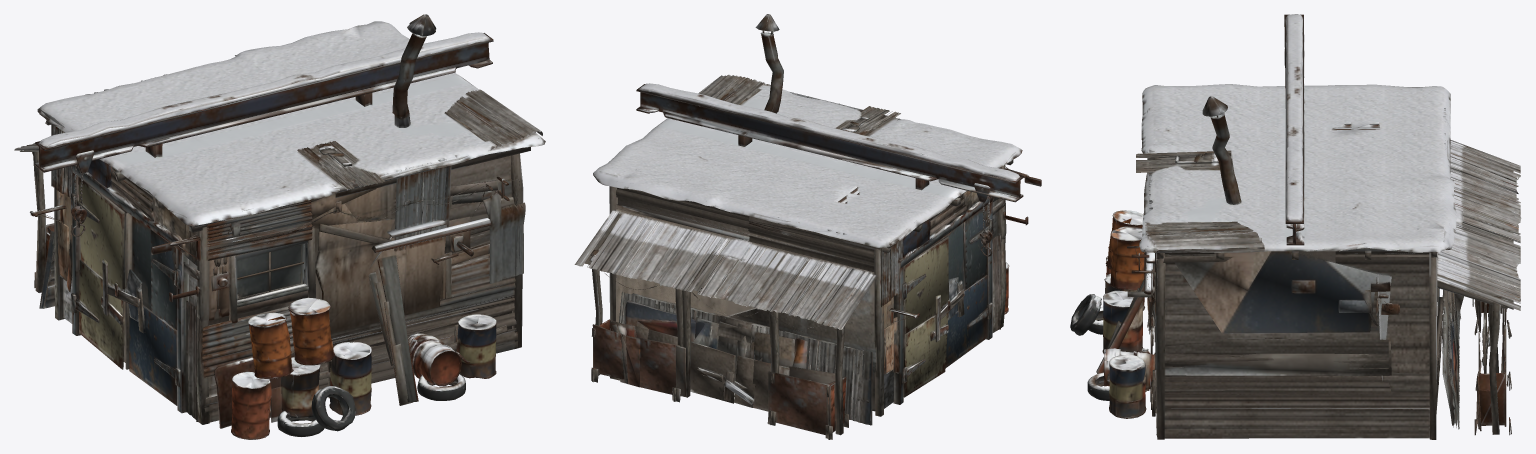
The model's file is jt_scrap_house_d.glb.
3 renders of one model, left to right at view 1: azimuth 30°, elevation 25°; view 2: azimuth 150°, elevation 25°; view 3: azimuth 270°, elevation 25°, orthographic. The views are drawn at different scales.
Size of the model in its own units: 0.9551 by 0.6748 by 0.8765.
1 material, 1 textured.
